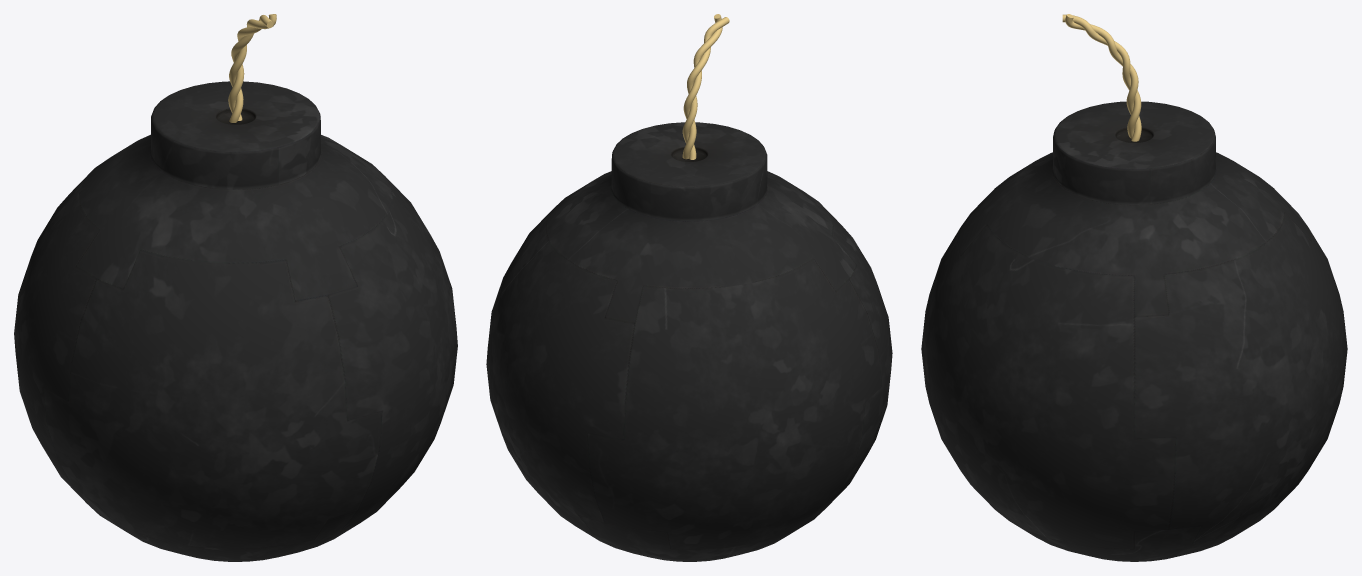
The model's file is bomb.fbx.
The picture shows the model from 3 angles, left to right: view 1: azimuth 30°, elevation 25°; view 2: azimuth 150°, elevation 25°; view 3: azimuth 270°, elevation 25°; orthographic projection. The views are drawn at different scales.
Visible parts, largest first — view 1: bomb; view 2: bomb; view 3: bomb.
Boxes of the visible parts, x1,y1,x2,y2 form: bomb: (14,14,457,561); bomb: (486,14,892,561); bomb: (921,14,1347,561).
Bounding box in the file's own units: 28.29 × 38.71 × 28.29.
2 materials, 1 textured.
